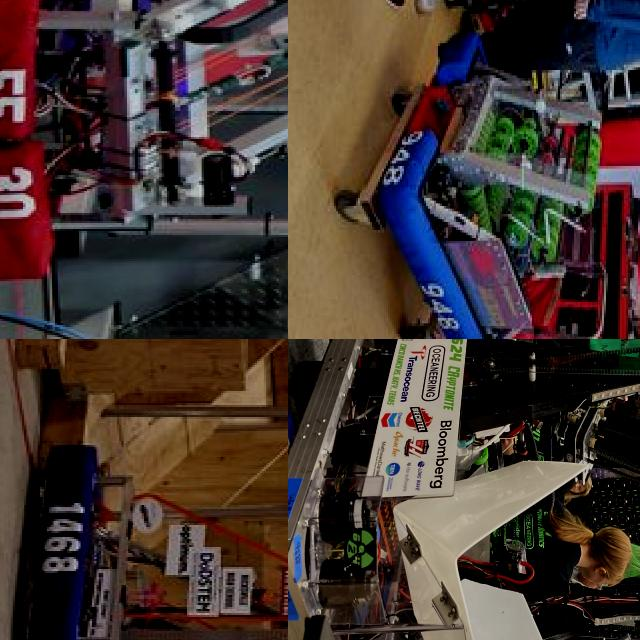FRC-Robots: (288, 339, 640, 640), (0, 0, 288, 282), (389, 14, 608, 339), (29, 432, 288, 640)
